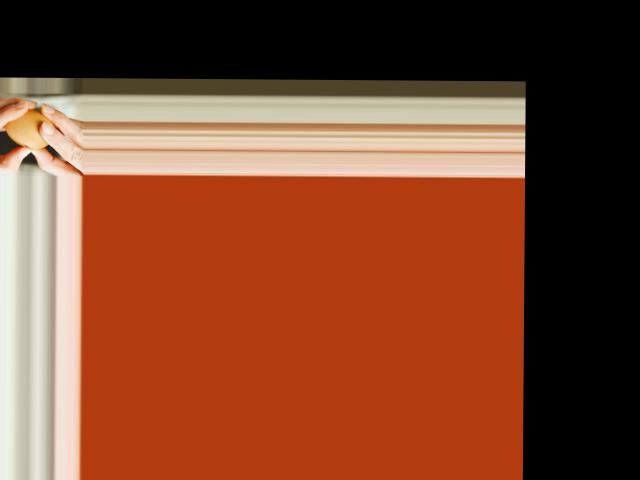egg: (5, 108, 55, 149)
